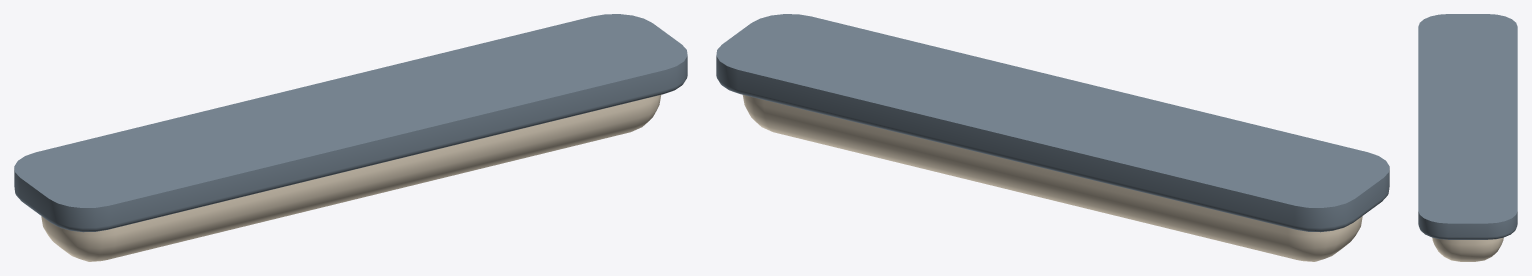
File: Long_Roof_Light.fbx
The picture shows the model from 3 angles, left to right: view 1: azimuth 30°, elevation 25°; view 2: azimuth 150°, elevation 25°; view 3: azimuth 270°, elevation 25°; orthographic projection. The views are drawn at different scales.
Visible parts, largest first — view 1: Long Roof Light; view 2: Long Roof Light; view 3: Long Roof Light.
Part boxes in pixels (box(x1,y1,x2,y2)): Long Roof Light: box(14, 14, 687, 261); Long Roof Light: box(716, 14, 1389, 261); Long Roof Light: box(1418, 14, 1517, 261).
Bounding box in the file's own units: 250 × 30 × 50.
